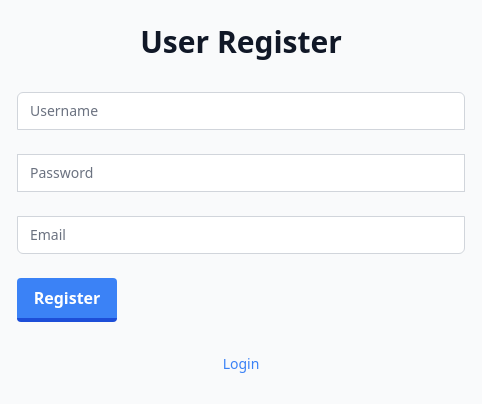
Test: Register Component › displays an error message when registration fails due to both existing username and email
Type "existingUser" into the field with placeholder "Username" at (241, 111), box [17,92,465,130]
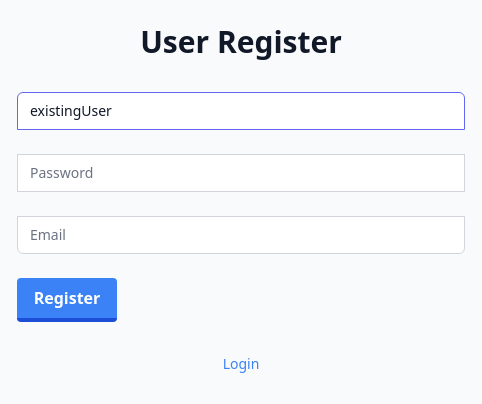
Type "password123" into the password field with placeholder "Password" at (241, 173), box [17,154,465,192]
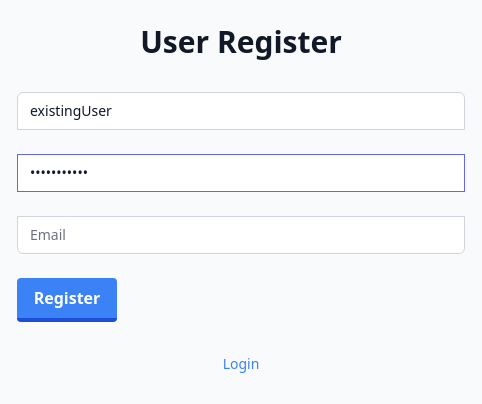
Type "existing@example.com" into the field with placeholder "Email" at (241, 235), box [17,216,465,254]
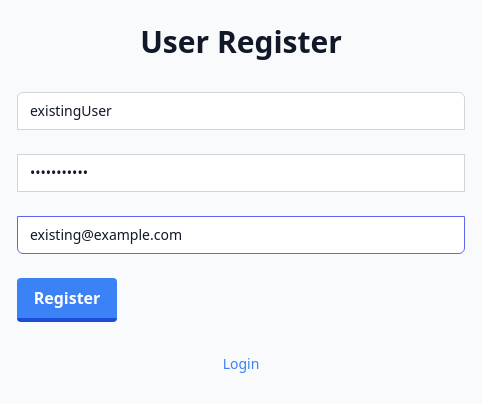
Click the button "Register" at (67, 300), box [17,278,117,322]
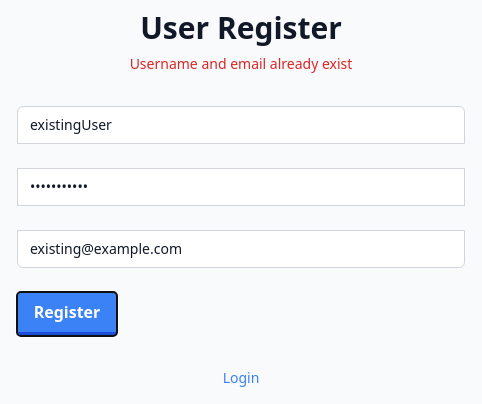
Now the text "Username and email already exist" is shown, box [130,54,352,73]
